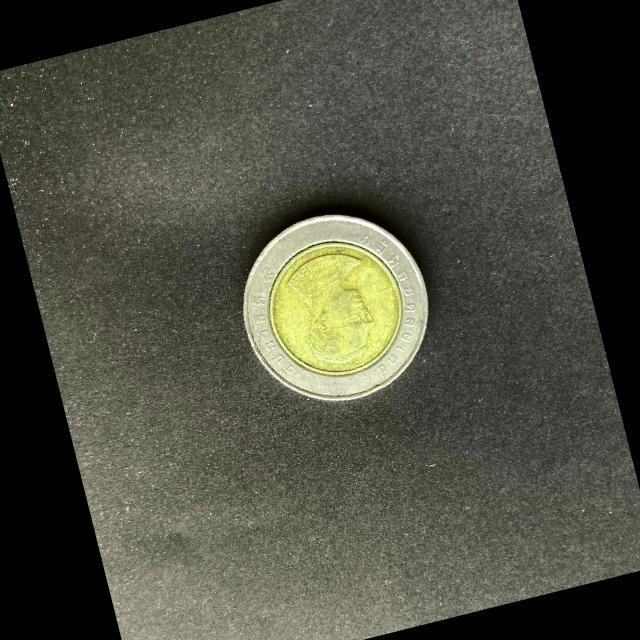10 Bath: (238, 210, 434, 407)
